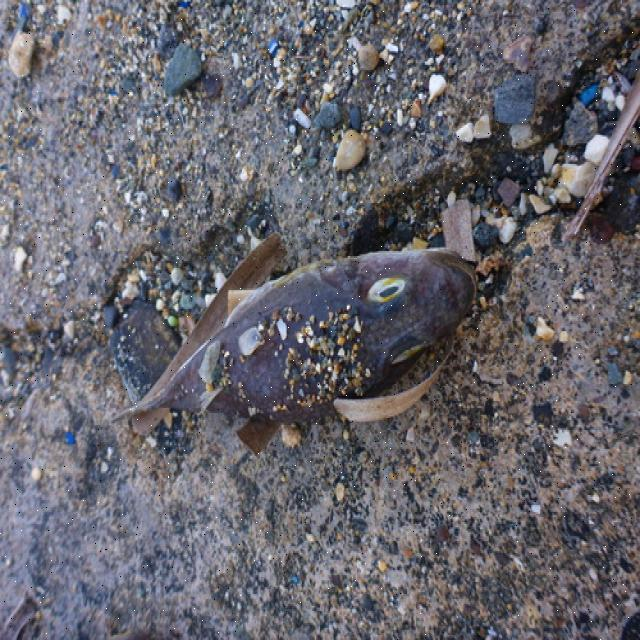Balik: (121, 236, 476, 450)
